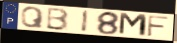8: (96, 11, 121, 36)
B: (45, 7, 70, 32)
F: (146, 15, 170, 38)
I: (80, 9, 90, 34)
M: (118, 11, 149, 38)
Q: (20, 6, 45, 29)
